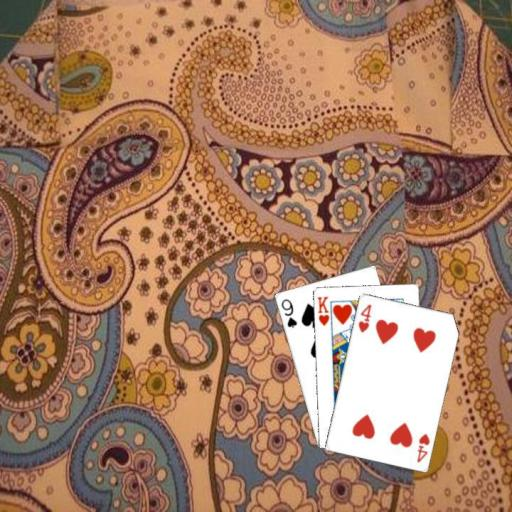4H: (413, 430, 431, 464), (355, 301, 373, 333)
9S: (278, 296, 298, 329)
KH: (314, 293, 331, 327)
